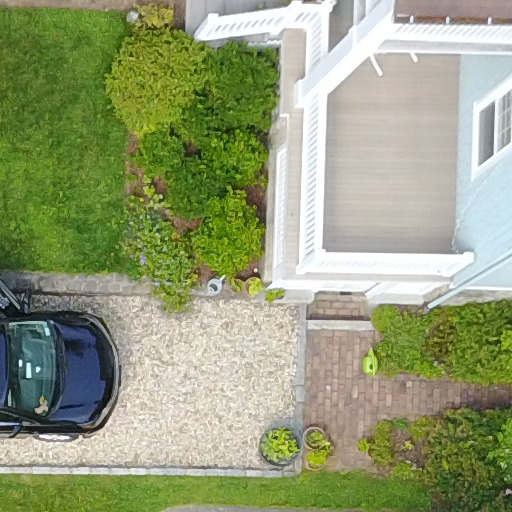flower pot: (251, 414, 306, 485), (294, 419, 337, 455), (302, 443, 328, 468)
porch: (236, 1, 508, 319)
watering can: (361, 342, 384, 383), (201, 265, 229, 297)
